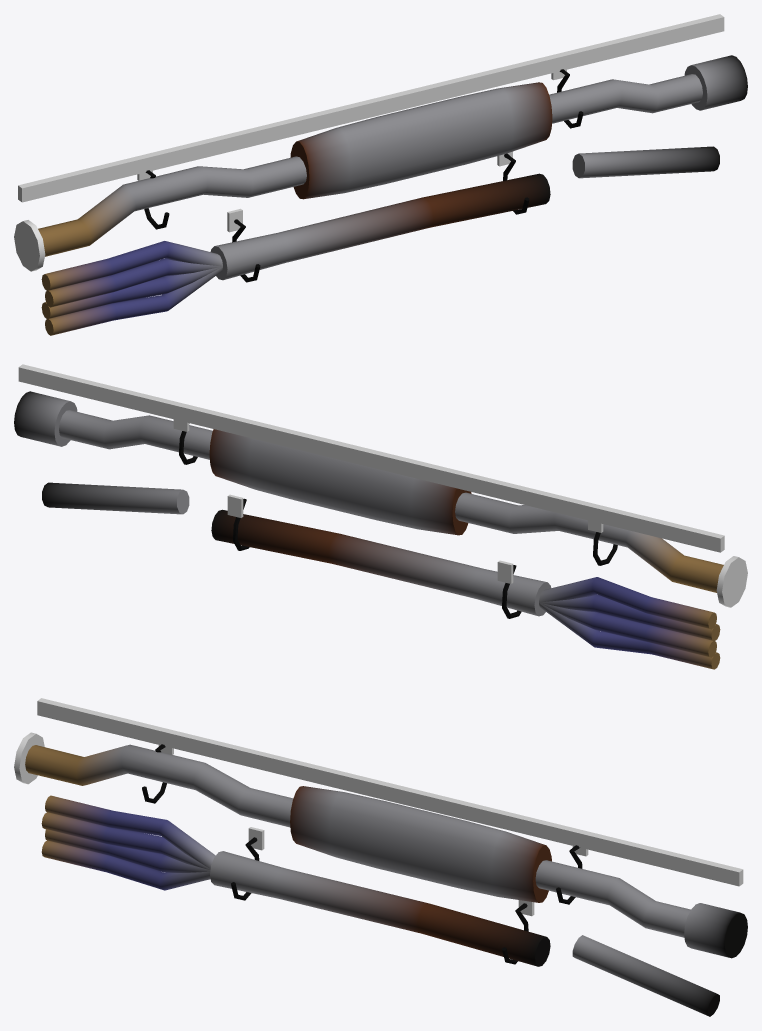
The model's file is exhaust-pipes.glb.
3 views of the same model, one above another, from view 1: azimuth 30°, elevation 25°; view 2: azimuth 150°, elevation 25°; view 3: azimuth 330°, elevation 25° (orthographic).
Parts seen in each view (by area): view 1: exhaust; view 2: exhaust; view 3: exhaust.
Boxes of the visible parts, x1,y1,x2,y2 form: exhaust: [14, 14, 747, 335]; exhaust: [14, 364, 747, 669]; exhaust: [14, 698, 747, 1016].
Bounding box in the file's own units: 1.58 × 0.3179 × 0.1027.
